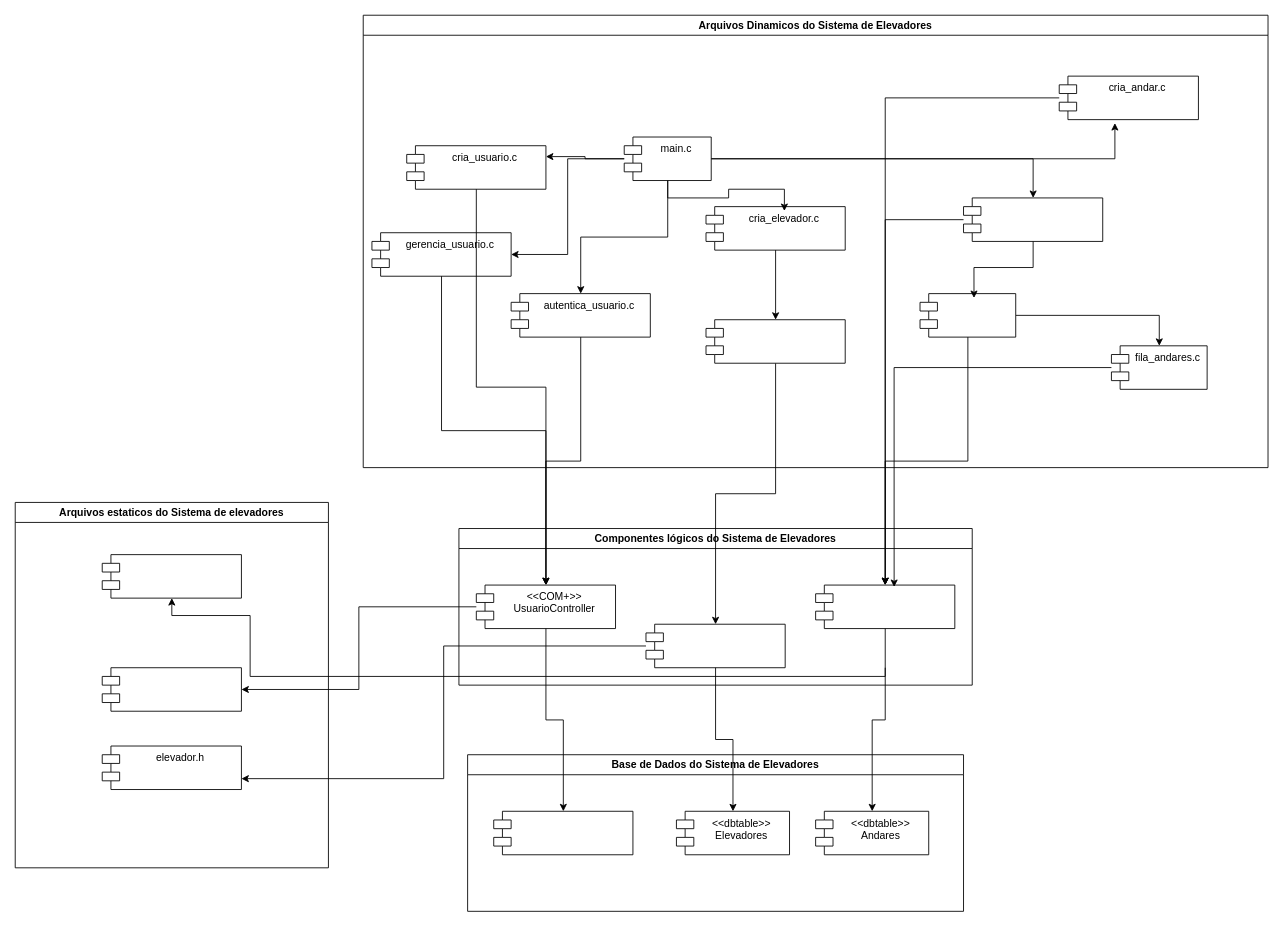
The diagram is 1283 pixels wide and 927 high, and some of its shapes have lost their labels. Each missing label, with the centre of its shape:
"<<COM+>> AndarController" belongs at (x=885, y=606).
"<<COM+>> ElevadorController" belongs at (x=715, y=645).
"<<dbtable>> Usuarios" belongs at (x=563, y=832).
"andar.h" belongs at (x=171, y=576).
"define_andar.c" belongs at (x=967, y=315).
"seleciona_andar.c" belongs at (x=1033, y=219).
"seleciona_elevador.c" belongs at (x=775, y=341).
"usuario.h" belongs at (x=171, y=689).
